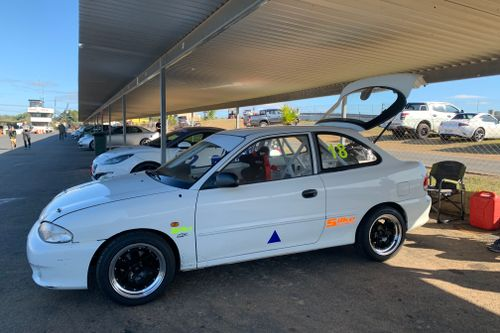car: (22, 123, 434, 307), (380, 97, 467, 142), (76, 122, 167, 154), (438, 110, 500, 153), (241, 108, 304, 126)
